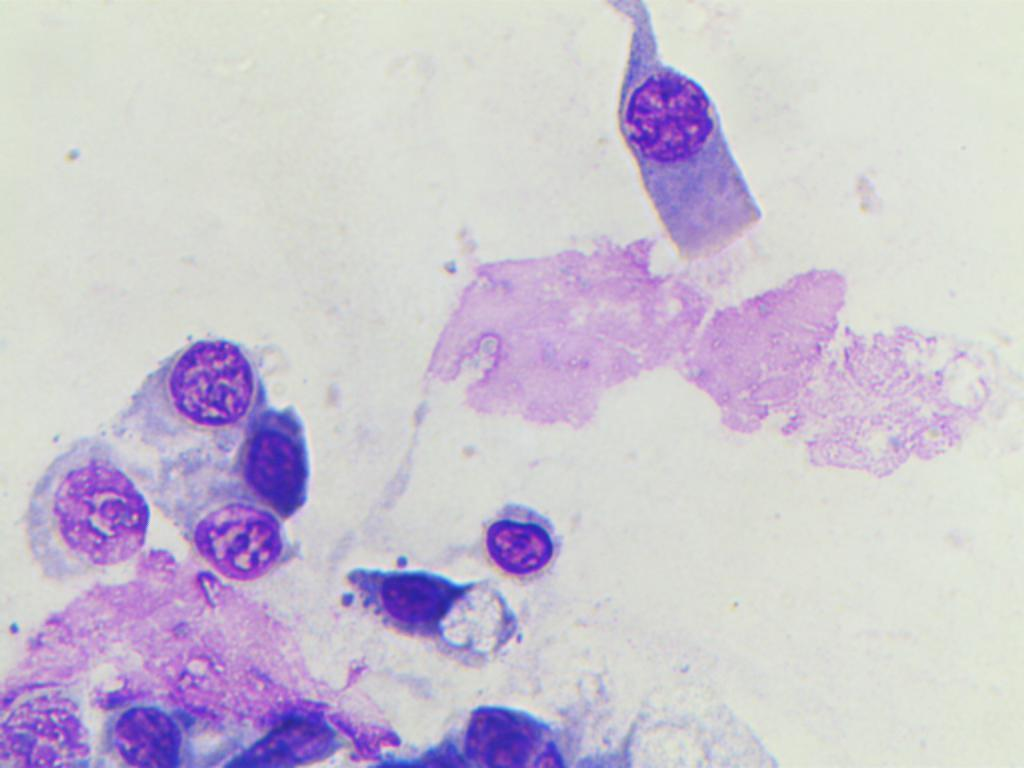ciliated: (611, 0, 777, 297)
epithelial: (6, 431, 148, 588), (121, 323, 269, 429), (313, 555, 472, 627), (233, 407, 329, 517), (189, 508, 296, 592), (465, 501, 565, 583), (97, 677, 184, 768)
